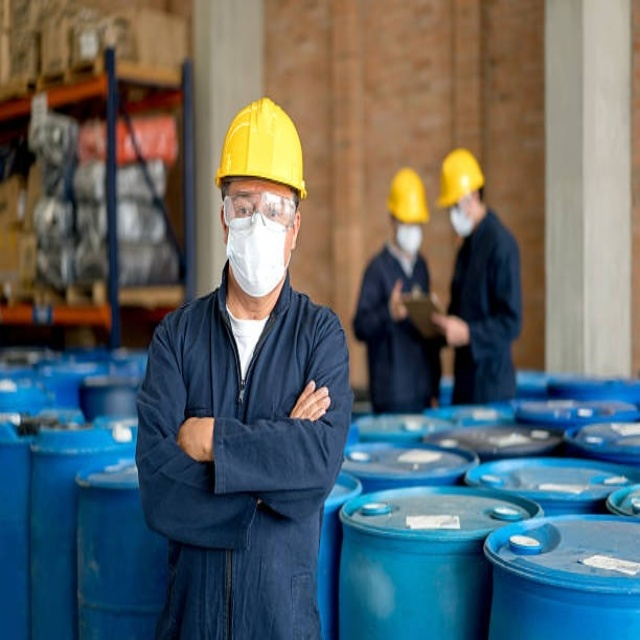Gafas: (222, 187, 300, 232)
Mascara: (224, 204, 291, 298), (449, 202, 475, 237), (396, 223, 423, 254)
Sin_guantes: (289, 377, 333, 424), (433, 312, 468, 347), (388, 277, 410, 322)
